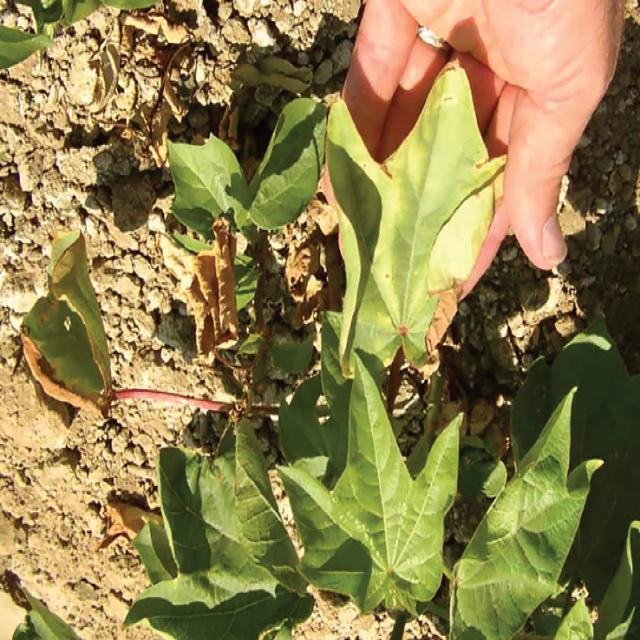Bacterial Blight: (414, 168, 507, 353)
